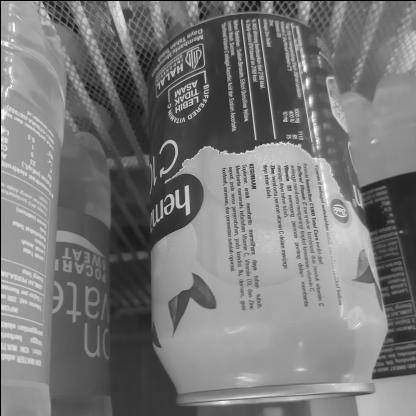alumunium_can: (134, 0, 389, 415)
